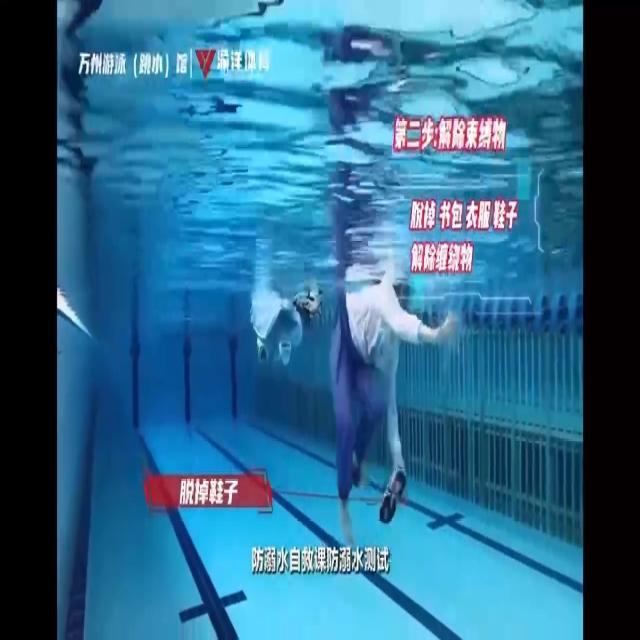Drowning: (294, 273, 454, 543)
